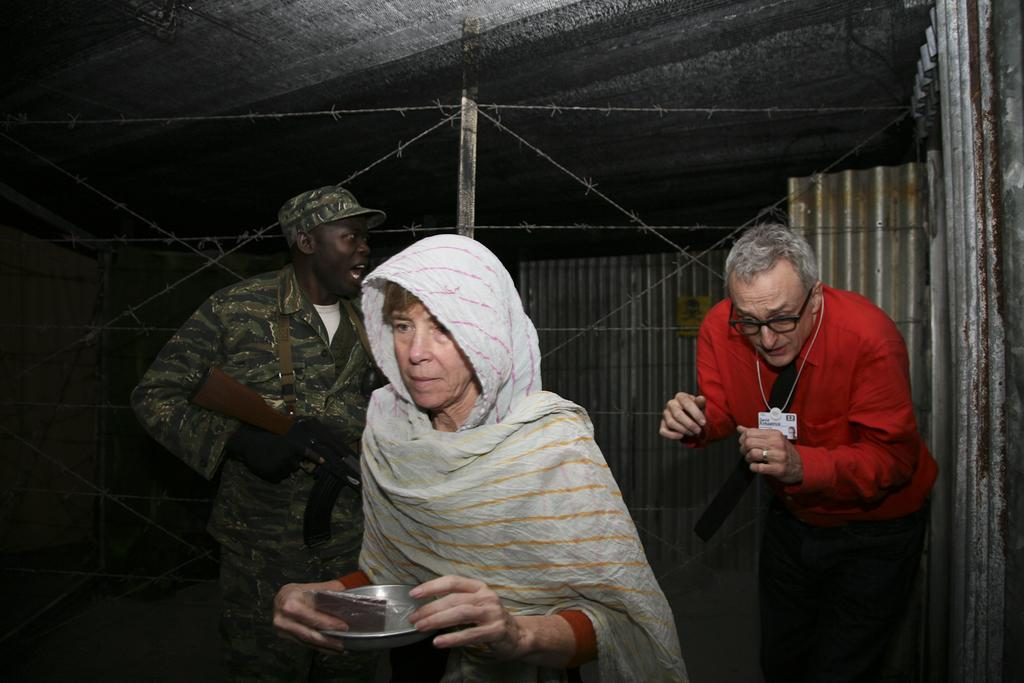Hat: (276, 188, 386, 246)
